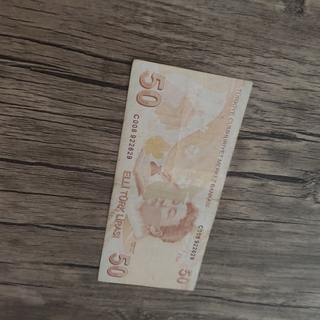50TLBack: (97, 58, 253, 291)
